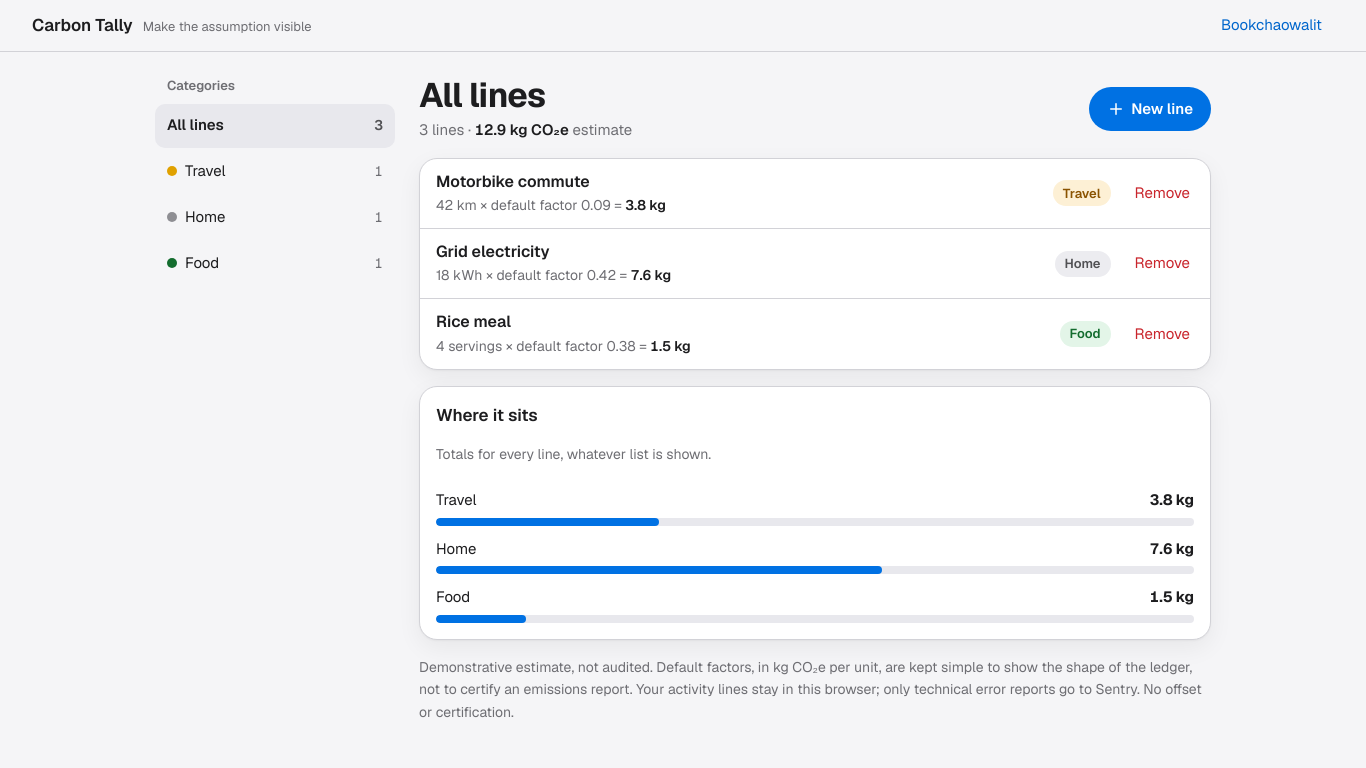
Test case: remove and undo › consecutive removes restore together with one Undo, each in its place
Click the button with aria-label "Remove Grid electricity" at (1162, 264), box [1123, 242, 1202, 286]
Wait 4000 ms
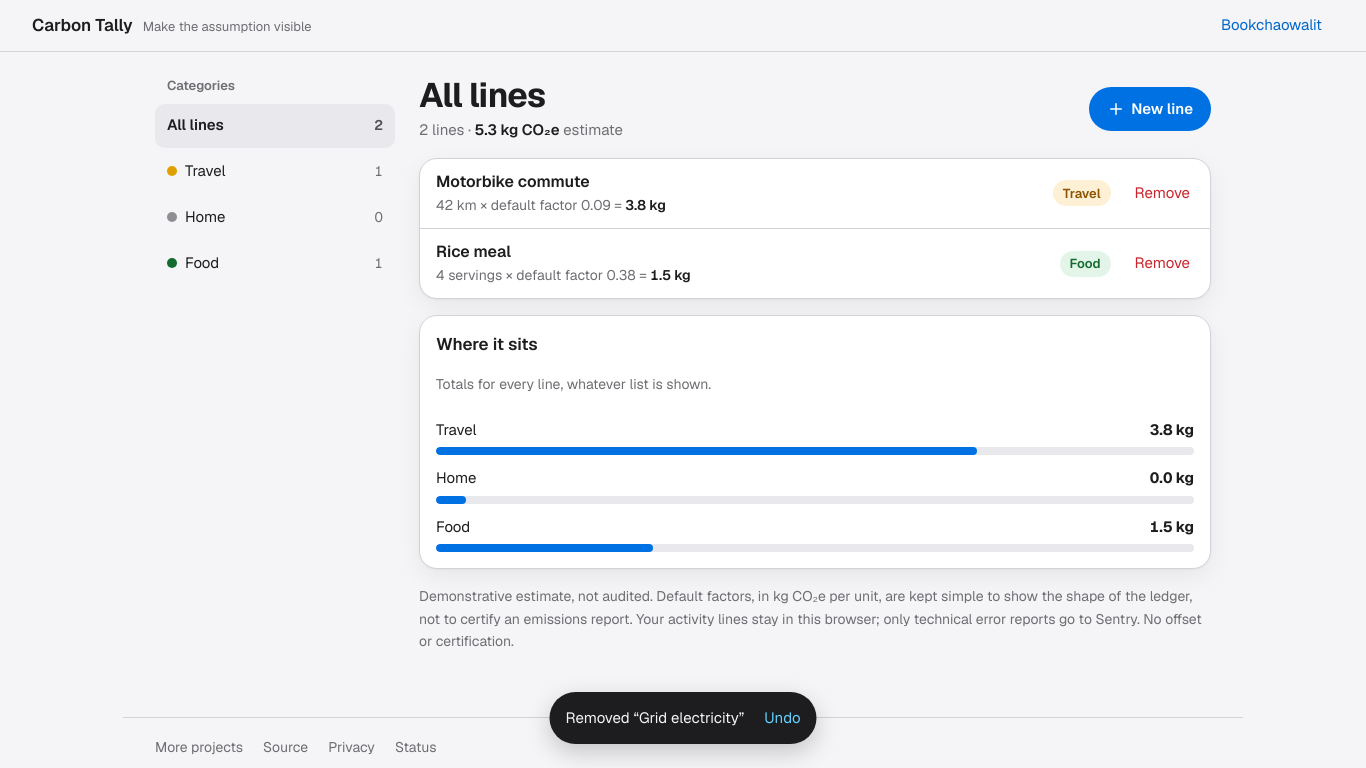
Click the button with aria-label "Remove Motorbike commute" at (1162, 193), box [1123, 171, 1202, 215]
Wait 4000 ms
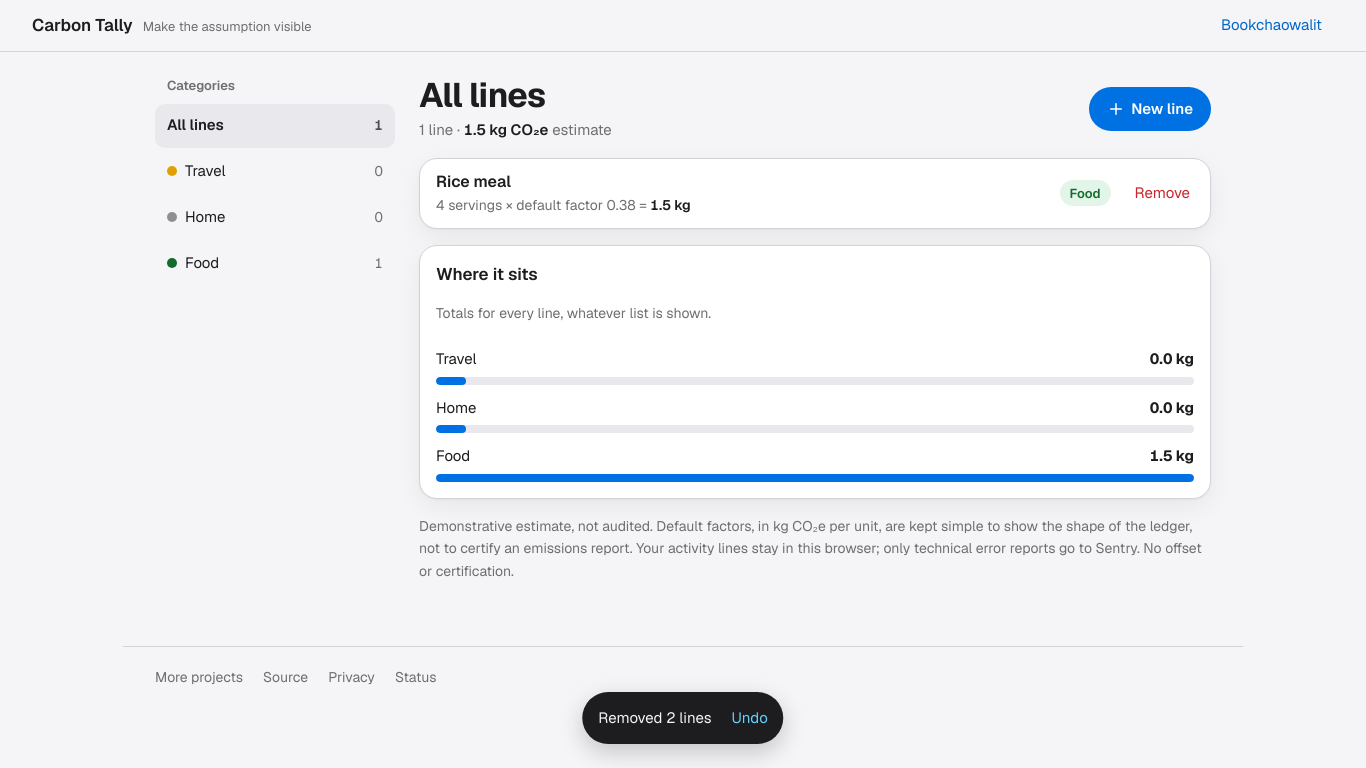
Check: the text "Removed 2 lines" is shown, box [598, 707, 712, 729]
Click the button "Undo" at (750, 718), box [720, 696, 780, 740]
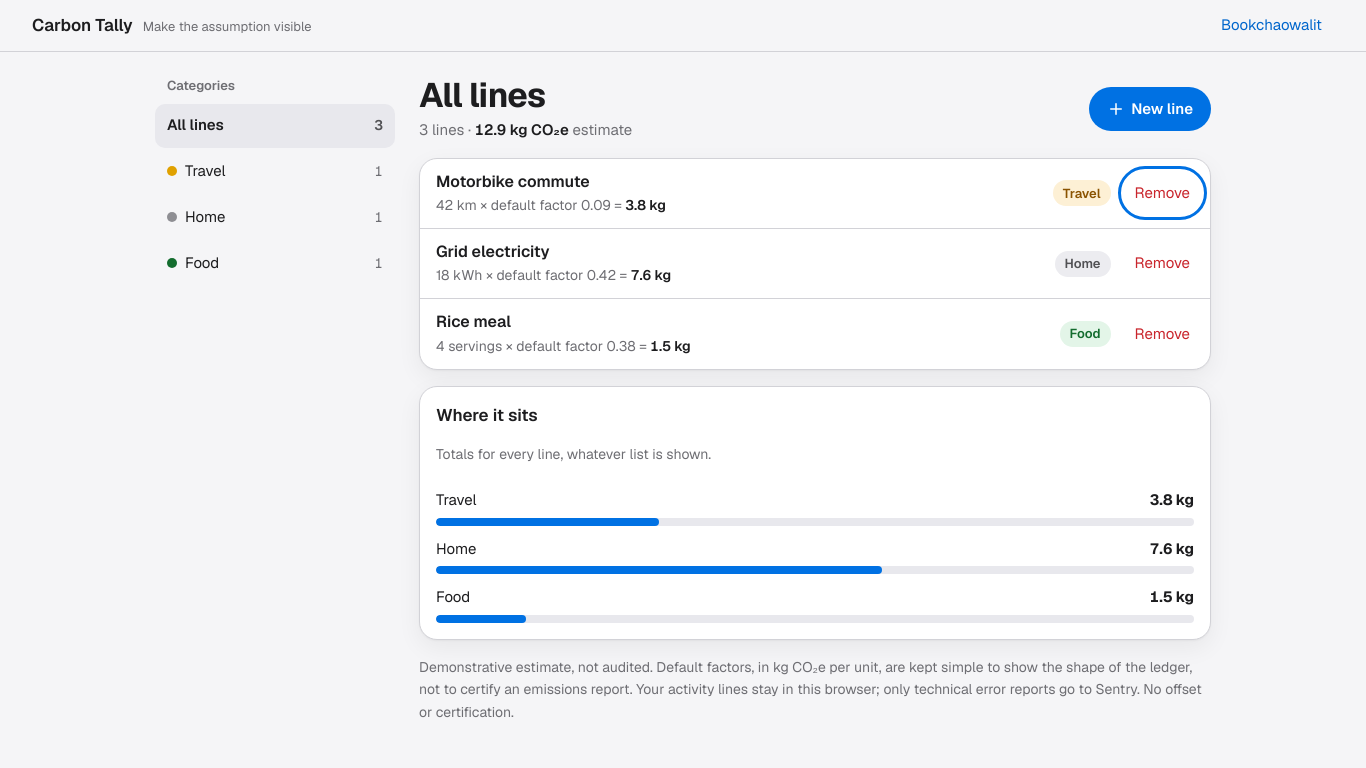
Check: the element with class "as-toast" is gone
